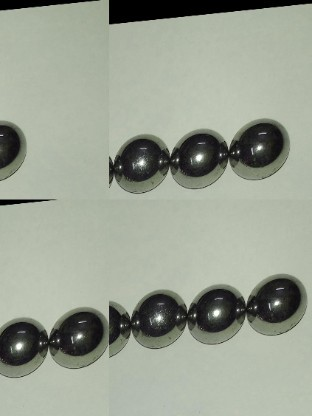ironball: (125, 283, 187, 353), (47, 303, 106, 371), (114, 129, 175, 194), (242, 271, 303, 336), (166, 129, 230, 190), (184, 279, 244, 344), (229, 115, 287, 180), (0, 313, 46, 379), (0, 115, 29, 179), (107, 291, 132, 363)
